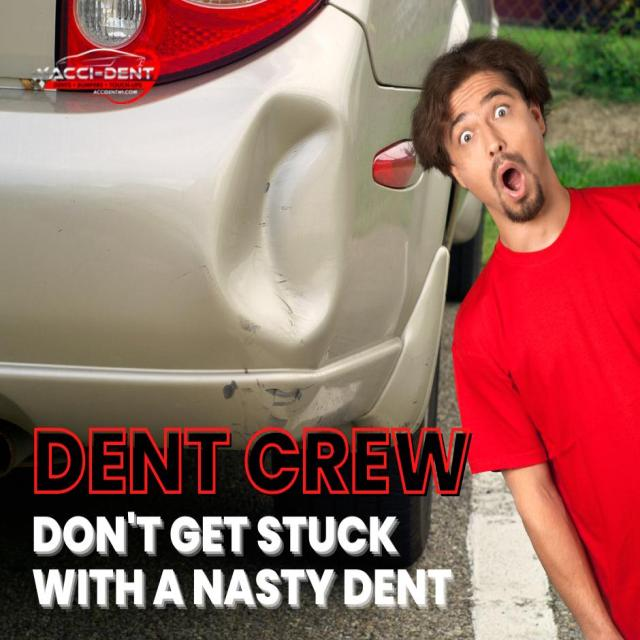dent: (209, 88, 355, 351)
